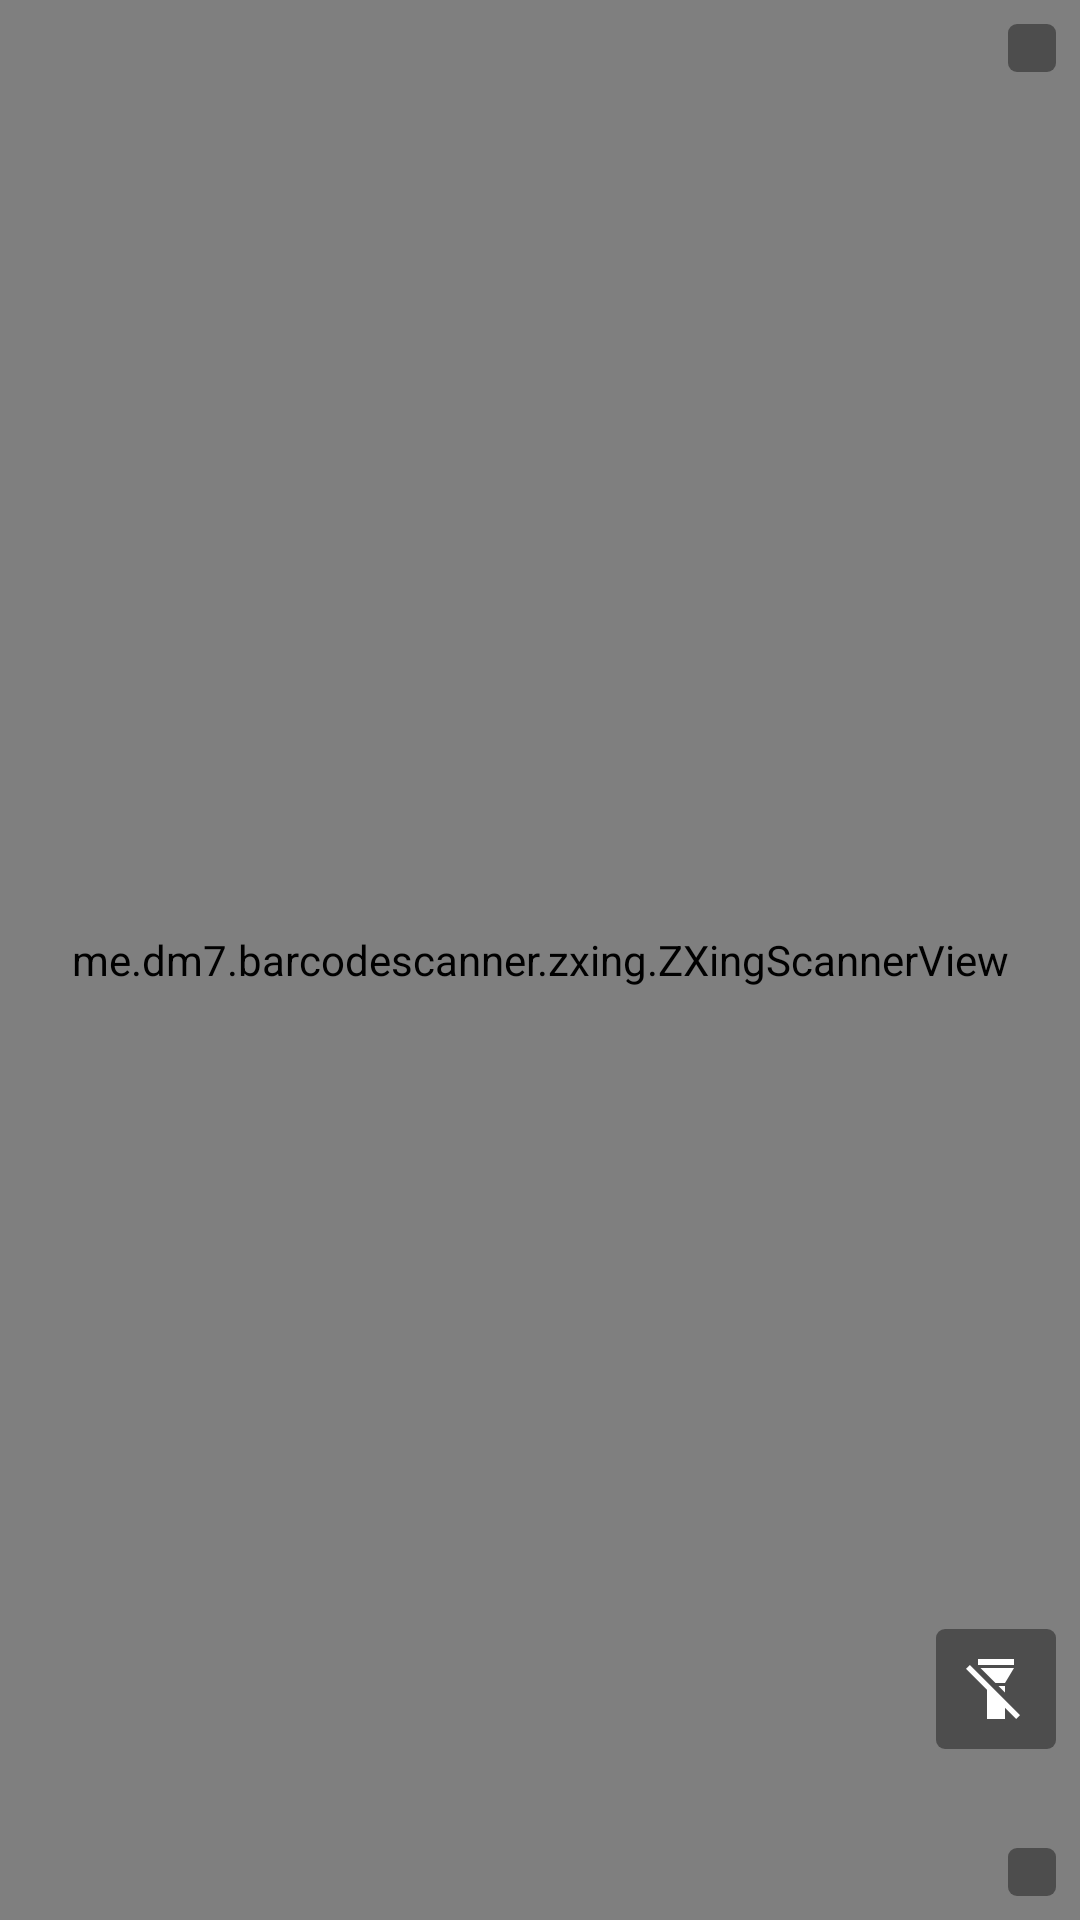

Where icons sit on this 1080×1920 app screen, as (x1, y1, x2, y2):
Ligar flash: (936, 1629, 1056, 1749)
